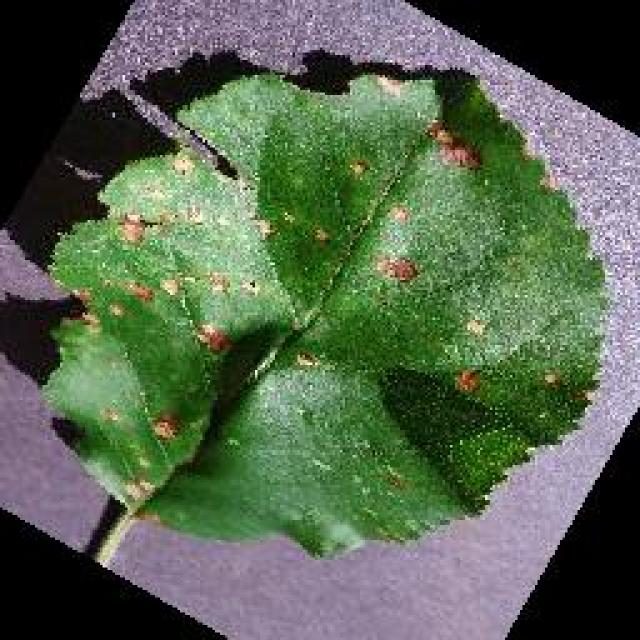apple healthy: (35, 52, 613, 560)
